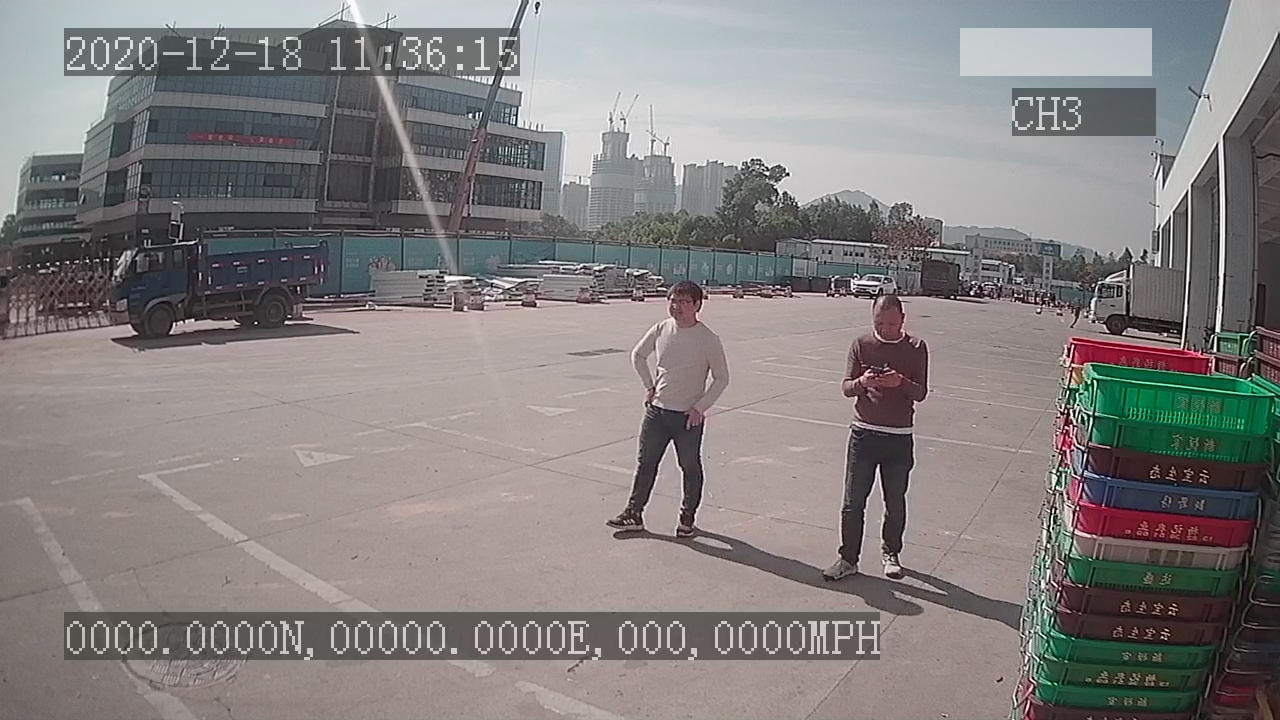person: (819, 291, 937, 586), (605, 279, 729, 539)
